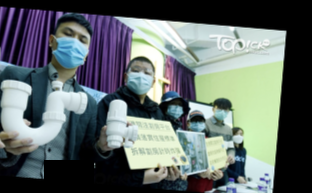with_mask: (53, 24, 90, 68), (125, 63, 155, 95), (166, 101, 184, 120), (213, 104, 229, 122), (188, 117, 205, 132), (232, 130, 243, 145)
